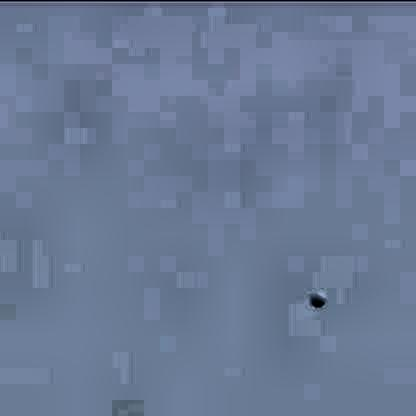golfball: (304, 287, 323, 305)
